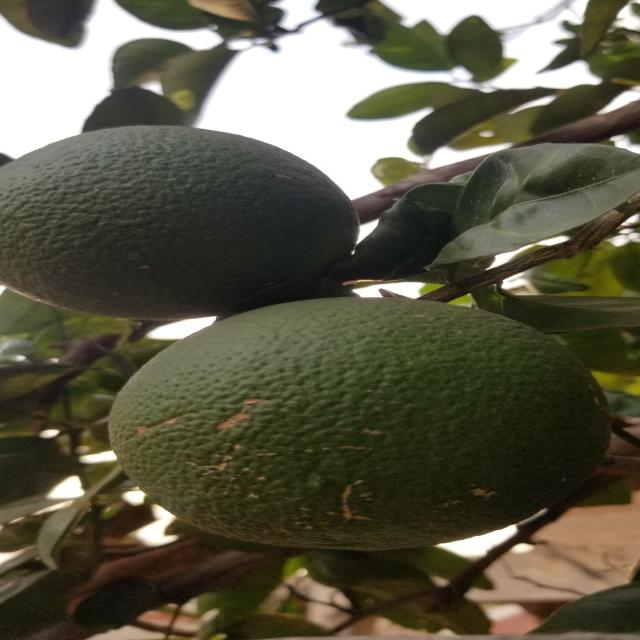Unripe: (114, 289, 627, 549), (0, 125, 343, 316)
